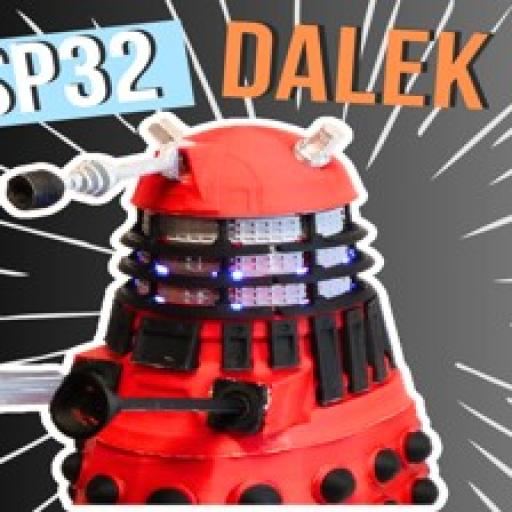dalek: (0, 111, 447, 512)
